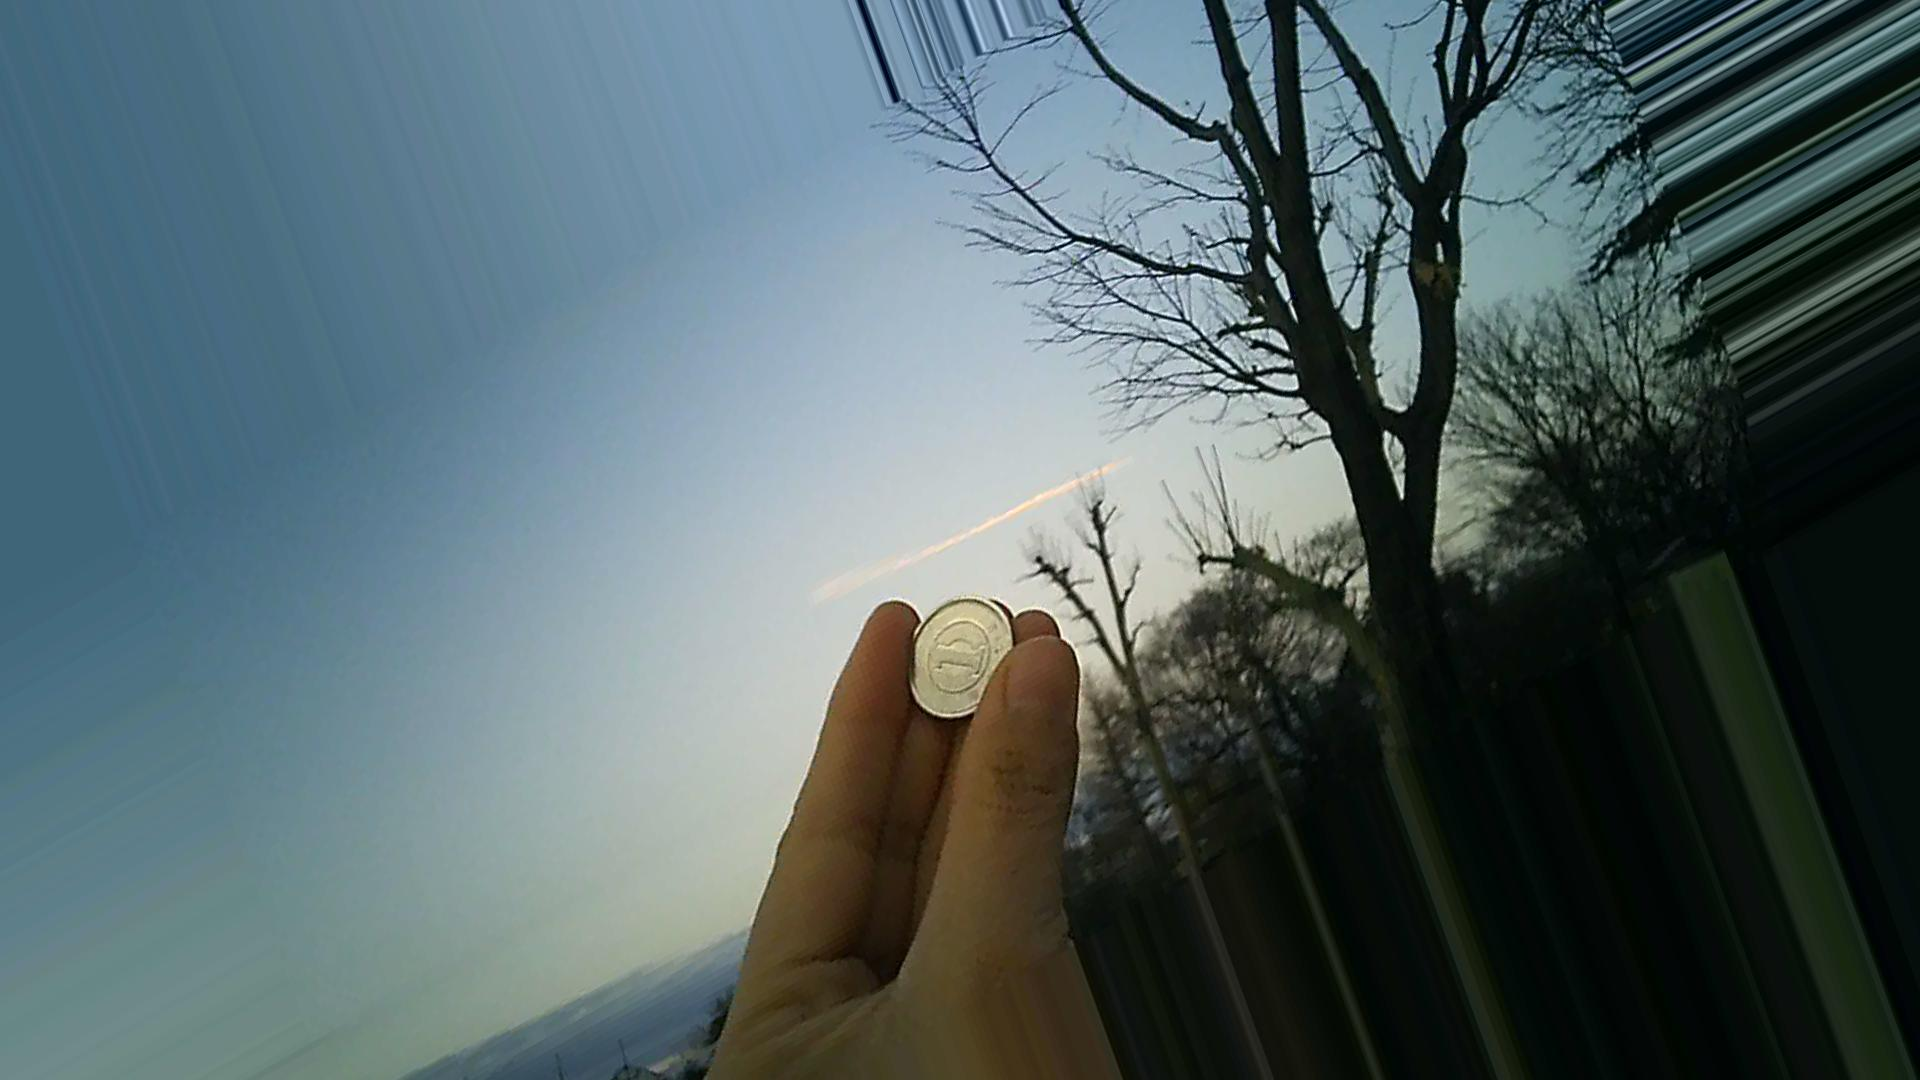1 Yen: (893, 587, 1026, 727)
